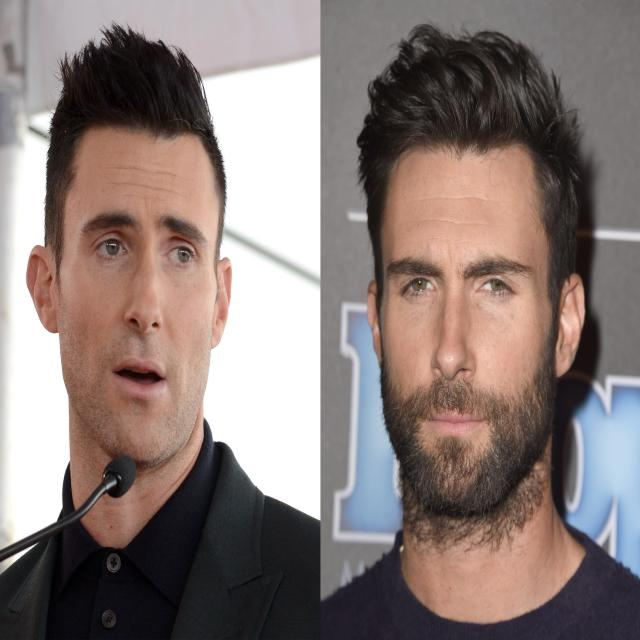beard: (383, 376, 554, 521)
hair: (362, 48, 574, 293), (56, 23, 230, 185)
